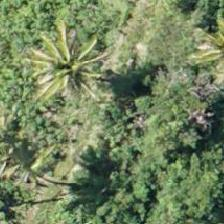coconut_tree: (18, 24, 108, 114), (0, 114, 49, 204)
